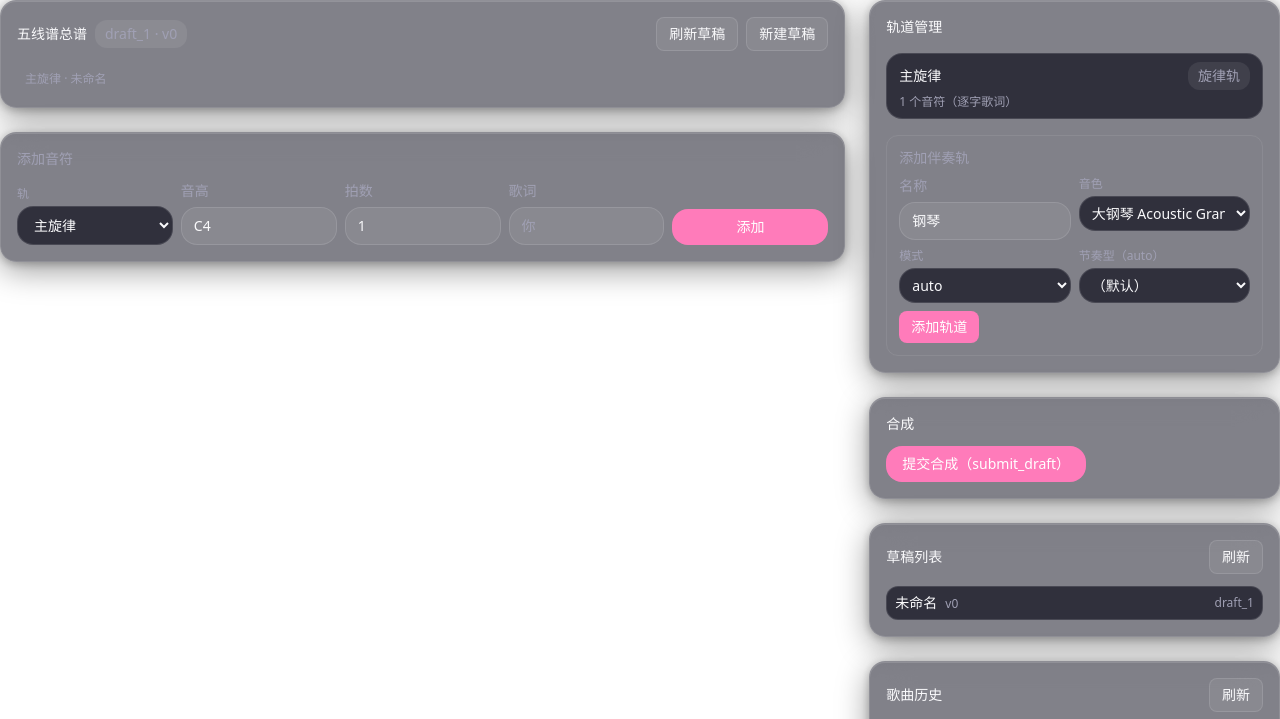
Test: CompositionPanel：草稿管理 › 新建草稿按钮 → 创建空白草稿
expect the element with test id "staff-score" is shown: met, box [25,70,106,87]
Click the button with test id "new-draft-btn": click(787, 34) [746,17,828,51]
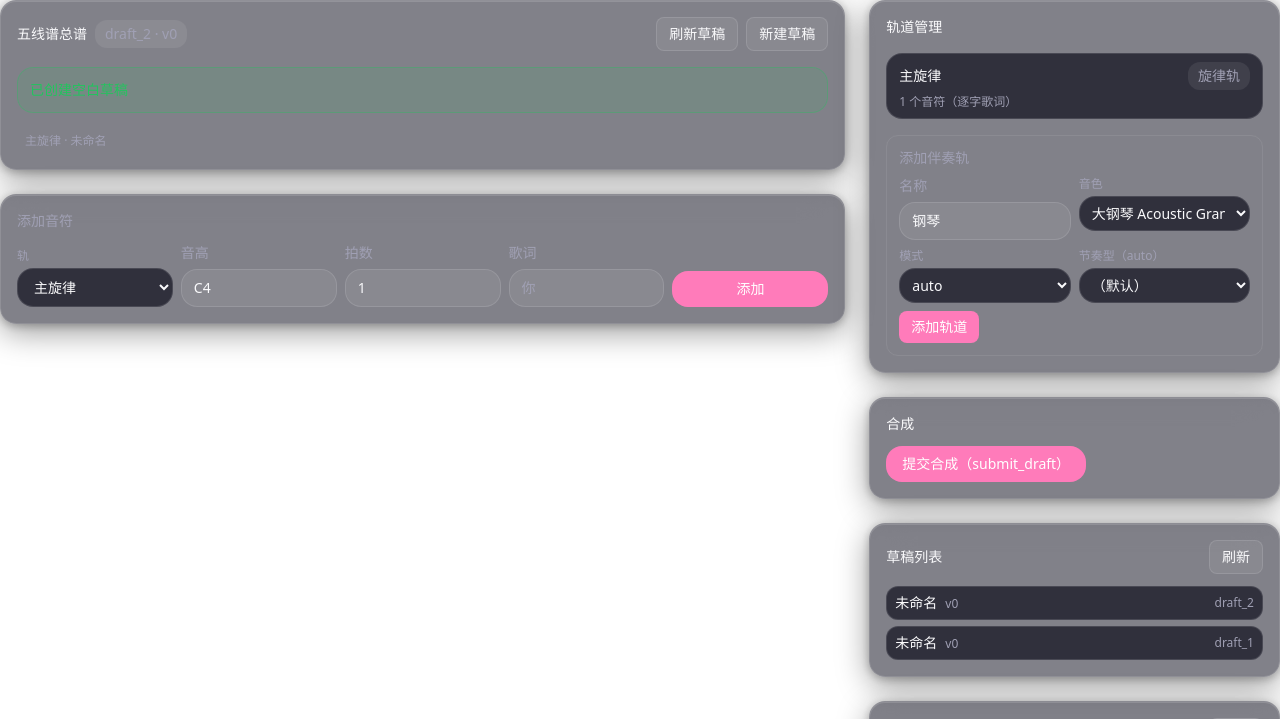
expect the text "已创建空白草稿" is shown: met, box [17,67,828,113]
